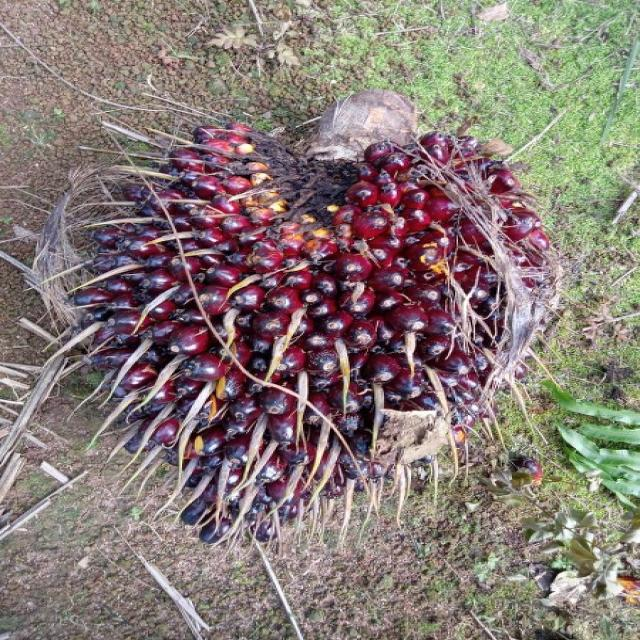fraksi 1: (24, 70, 589, 557)
